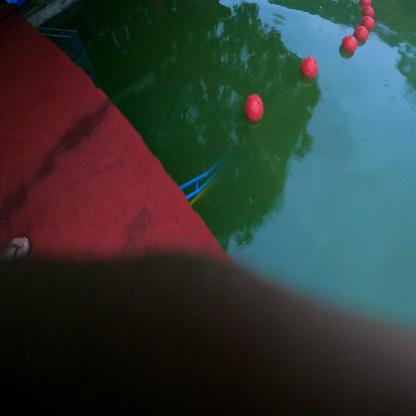red_buoy: (241, 90, 268, 126), (298, 52, 321, 82), (339, 33, 358, 58), (352, 22, 372, 45), (359, 13, 377, 34), (359, 4, 378, 19)
